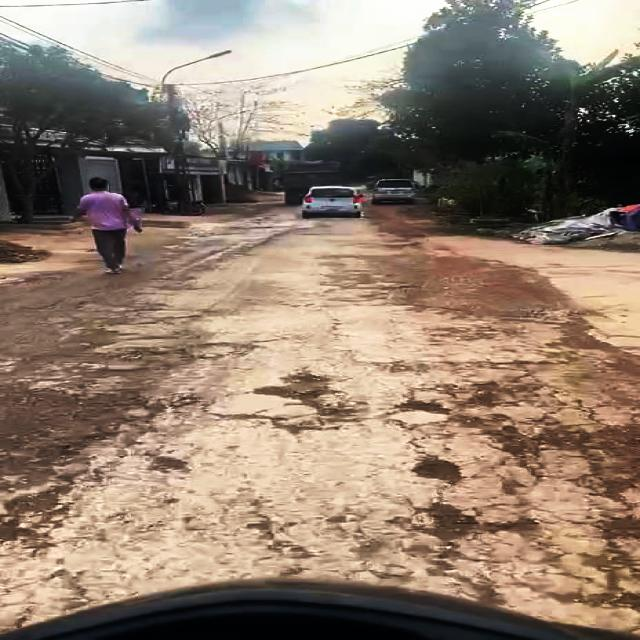pothole: (546, 550, 640, 613), (256, 371, 362, 423), (482, 426, 552, 478), (408, 501, 476, 544), (458, 382, 523, 409), (414, 457, 463, 488), (587, 515, 640, 542), (386, 397, 450, 417)
